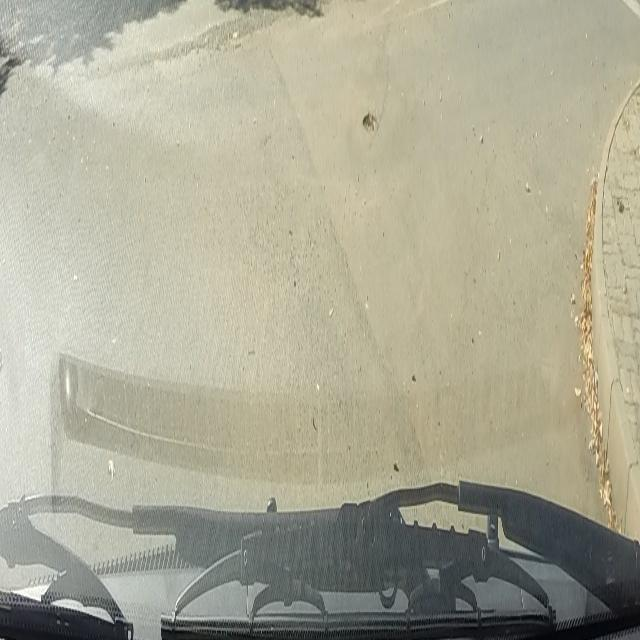pothole: (358, 110, 384, 138)
